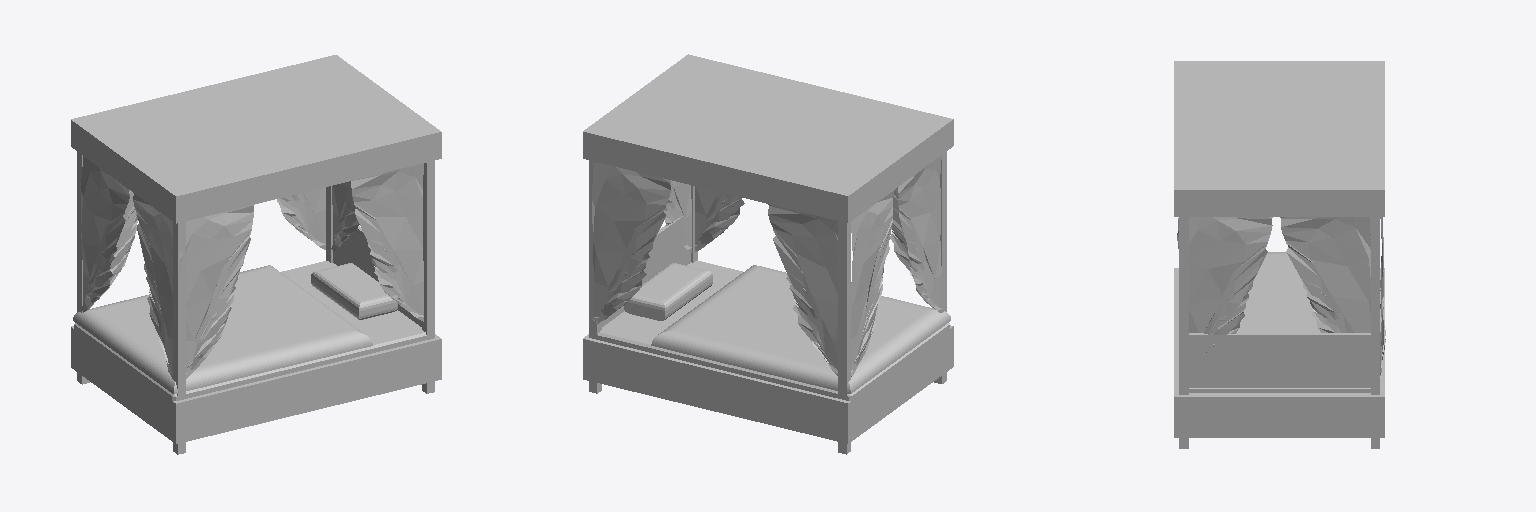
Rendered from himmelbett.obj.
The picture shows the model from 3 angles: view 1: azimuth 30°, elevation 25°; view 2: azimuth 150°, elevation 25°; view 3: azimuth 270°, elevation 25°; orthographic projection.
Parts seen in each view (by area): view 1: Box010, Box005, Box008, Line004, Line005, Box007, Line002, Line001, Box009, Box004, Box002, Line003 (+4 smaller); view 2: Box010, Box008, Box005, Line003, Line006, Box007, Line002, Line001, Box009, Box003, Line004, Box006 (+4 smaller); view 3: Box010, Box005, Box006, Line008, Line007, Box008, Box002, Box001, Box007.
Boxes of the visible parts, box(x1,y1,x2,y2) form: Box010: box(71, 55, 441, 223); Box005: box(71, 321, 441, 443); Box008: box(73, 265, 372, 393); Line004: box(351, 163, 423, 321); Line005: box(180, 205, 253, 378); Box007: box(74, 261, 428, 400); Line002: box(80, 156, 129, 312); Line001: box(133, 193, 175, 381); Box009: box(311, 263, 397, 319); Box004: box(173, 221, 185, 454); Box002: box(422, 161, 434, 393); Line003: box(277, 187, 325, 249); Box010: box(583, 54, 953, 222); Box008: box(651, 265, 950, 393); Box005: box(583, 321, 953, 443); Line003: box(591, 162, 670, 323); Line006: box(768, 204, 837, 375); Box007: box(595, 260, 949, 401); Line002: box(850, 190, 893, 377); Line001: box(898, 155, 944, 312); Box009: box(624, 263, 712, 320); Box003: box(838, 221, 850, 454); Line004: box(695, 186, 744, 251); Box006: box(602, 216, 690, 326); Box010: box(1174, 61, 1384, 216); Box005: box(1174, 268, 1384, 437); Box006: box(1189, 333, 1370, 387); Line008: box(1280, 217, 1370, 332); Line007: box(1189, 217, 1272, 352); Box008: box(1237, 252, 1320, 332); Box002: box(1179, 217, 1188, 448); Box001: box(1371, 217, 1379, 448); Box007: box(1189, 388, 1370, 392).
Bounding box in the file's own units: 126 × 118 × 86.88.